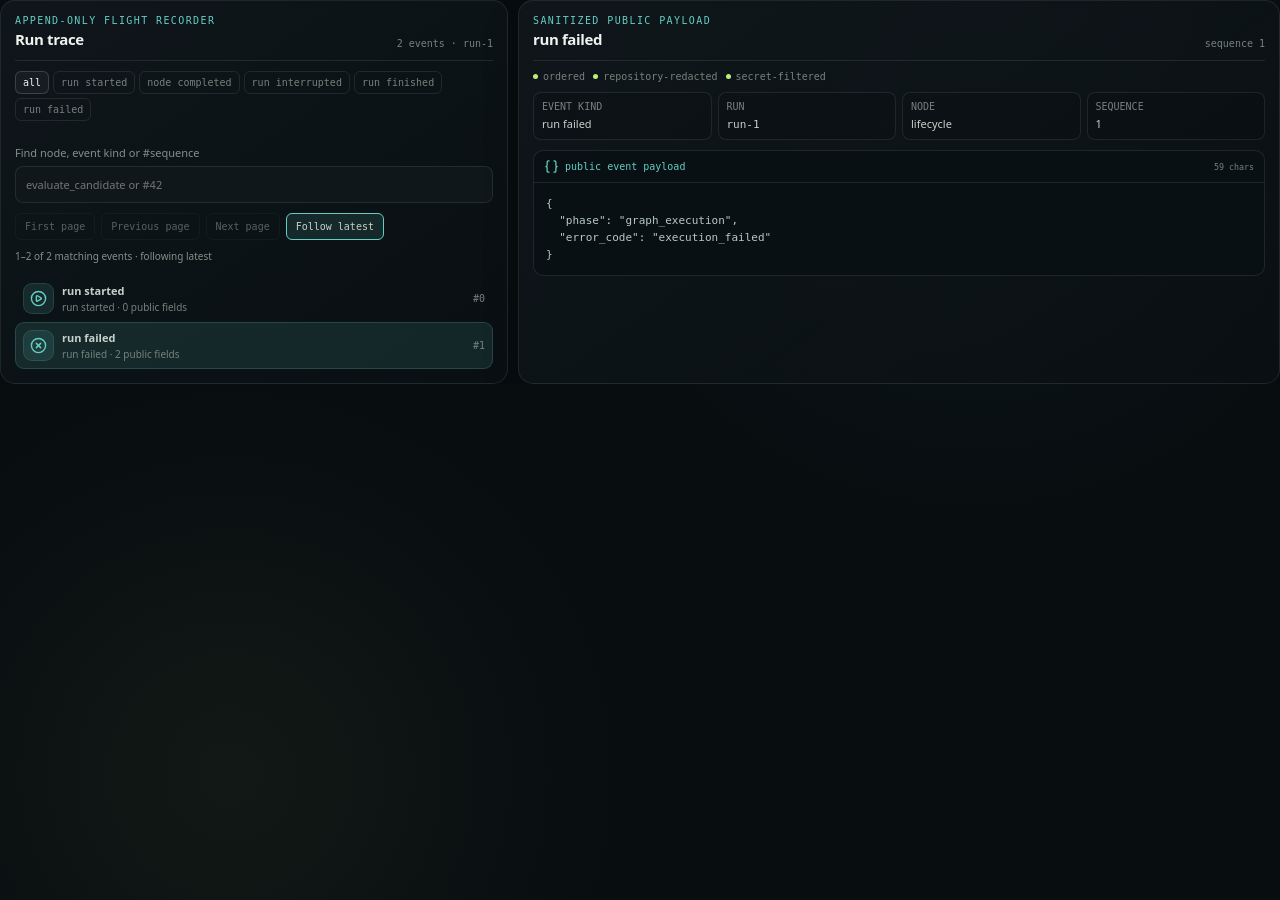
Test: investigation observability lenses › filters persisted failures without depicting them as finished runs
Click the button "run failed" at [53, 110], box [15,98,91,121]
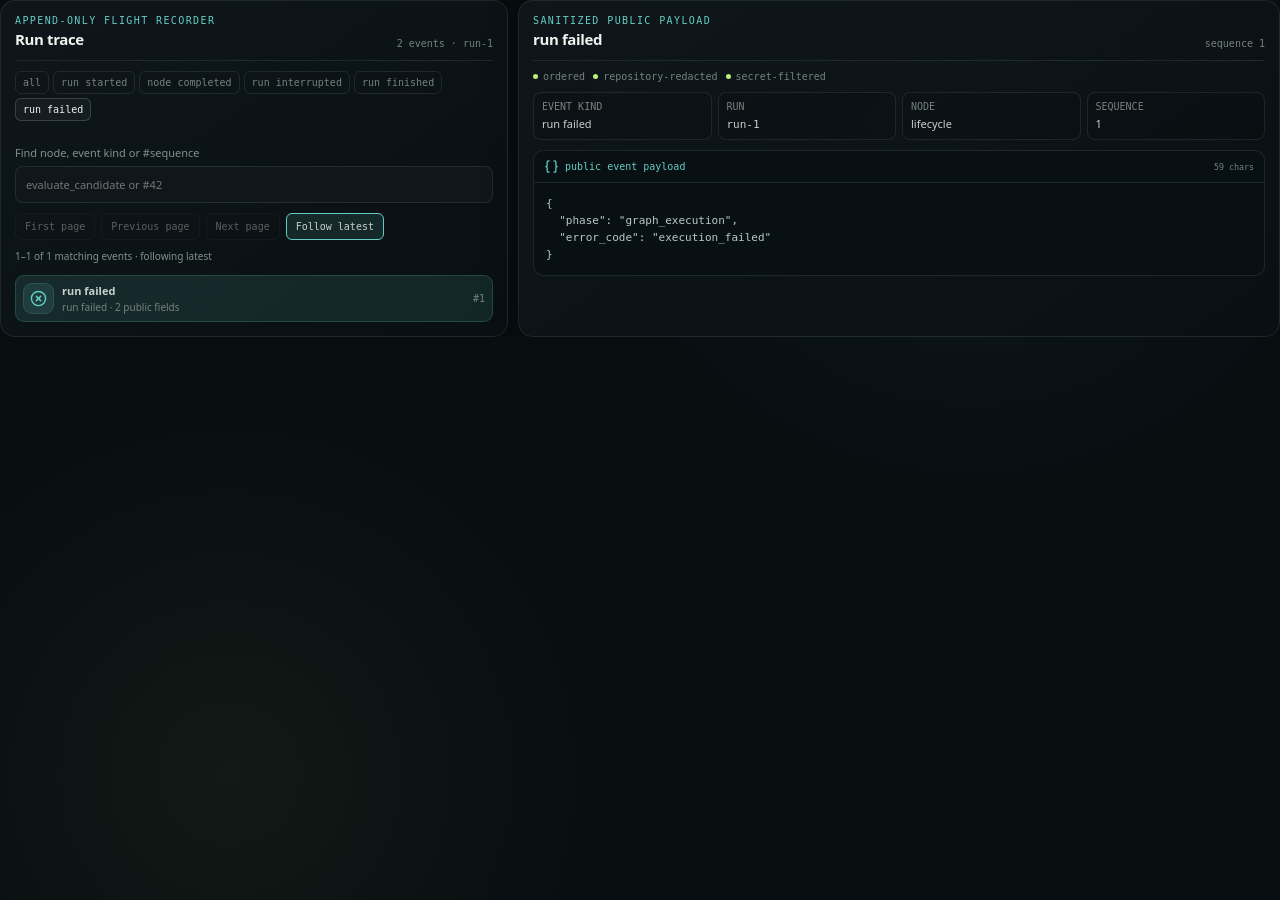
Check: the text "graph_execution" is shown, box [546,197,771,261]
Check: the button "#0" is gone
